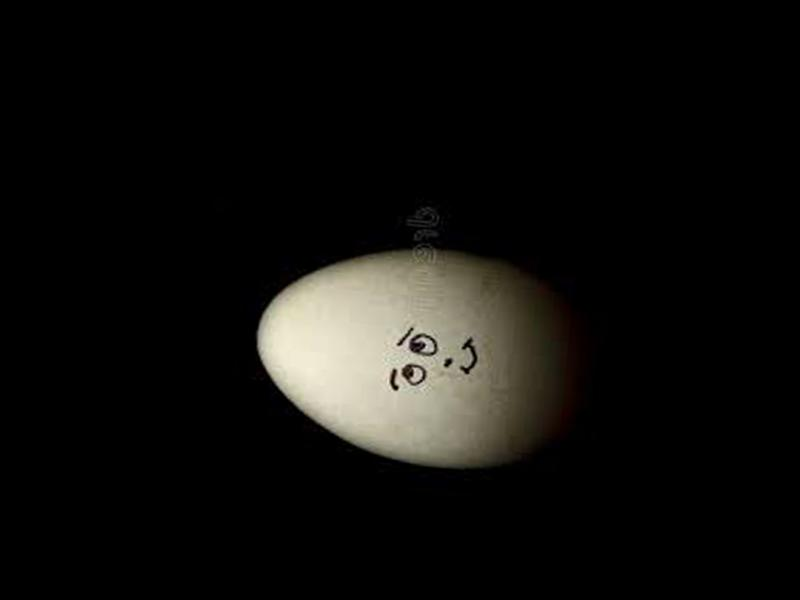Eggs: (245, 235, 584, 477)
